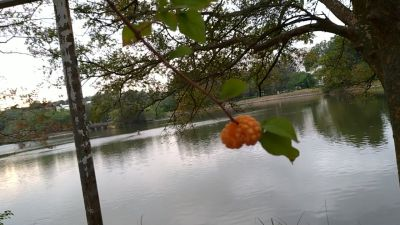eggs: (219, 112, 264, 150)
